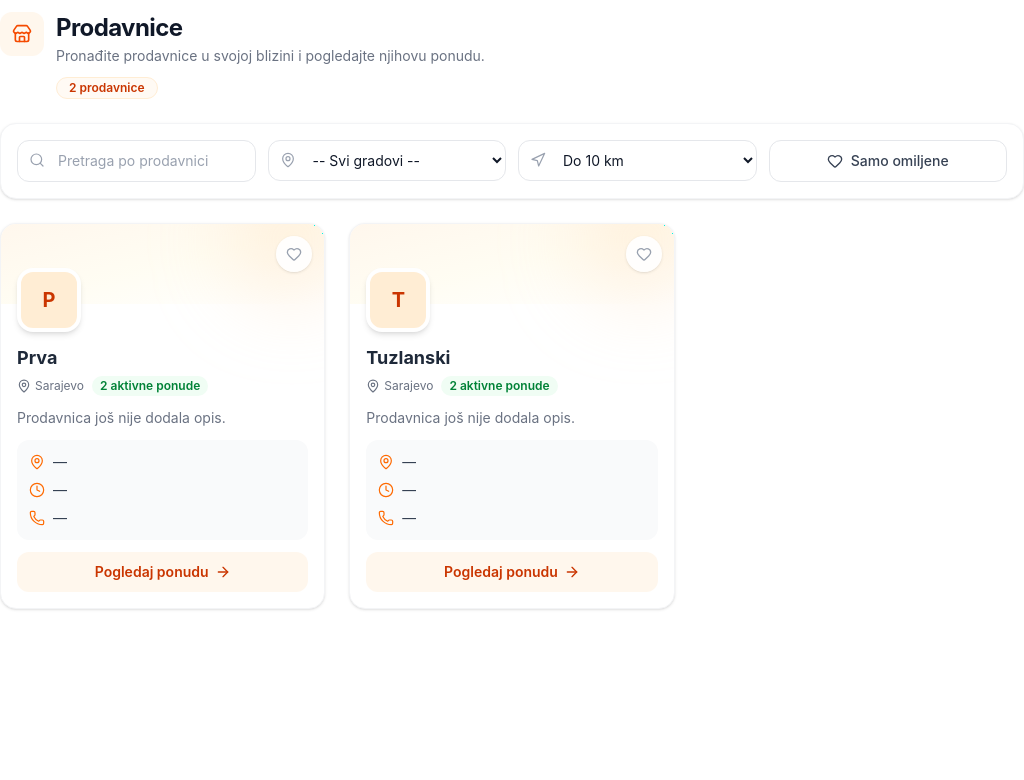
StoresPage › filters by a city from the list, with all cities as the default
Expected: the heading "Prva" is shown, [17, 347, 57, 368]
Select "Tuzla" in the dropdown named "Grad": (387, 160) [268, 140, 506, 181]
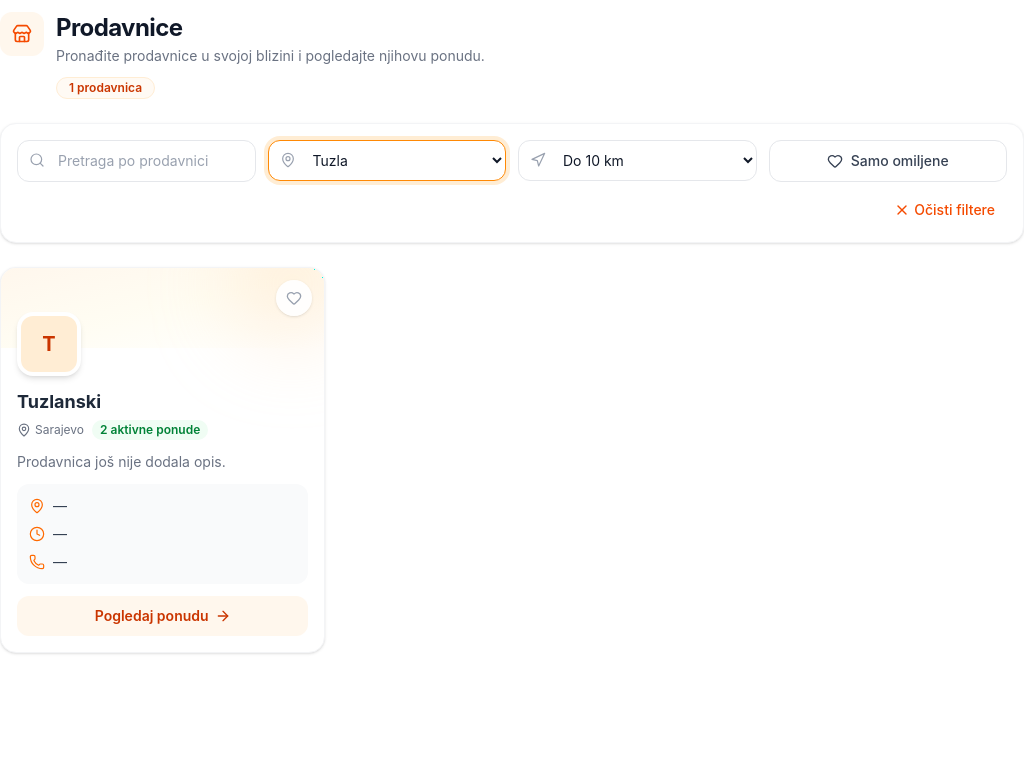
Expected: the heading "Prva" is gone
Click the button "Očisti filtere": click(945, 210) [882, 194, 1007, 226]
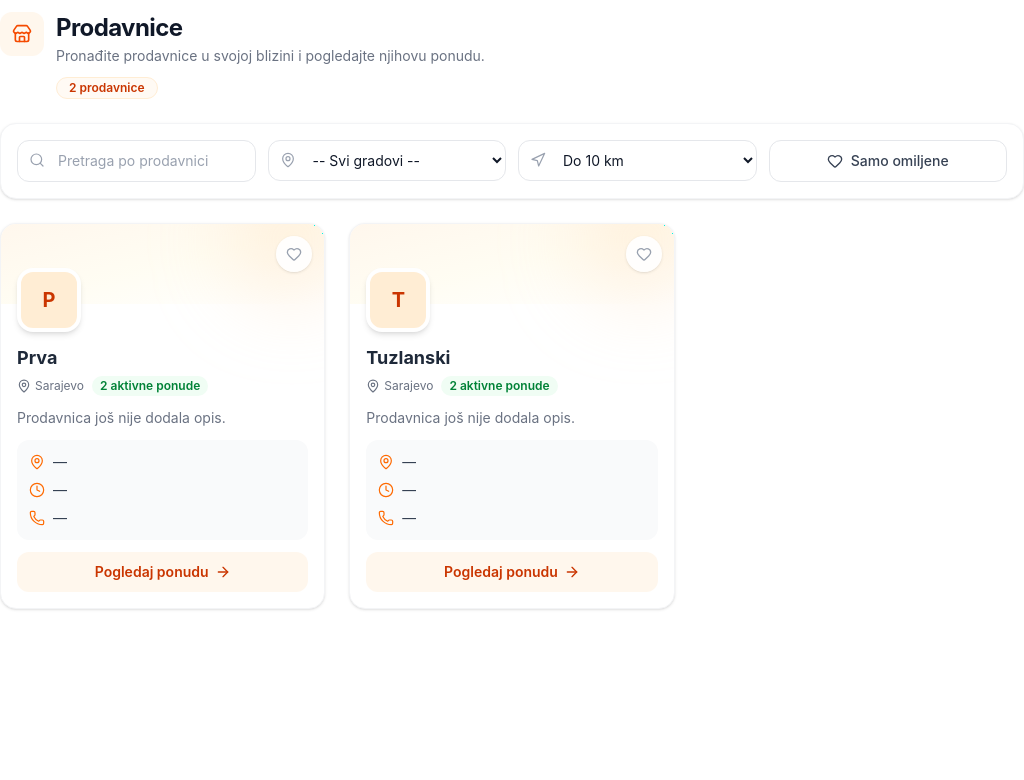
Expected: the heading "Prva" is shown, [17, 347, 57, 368]
